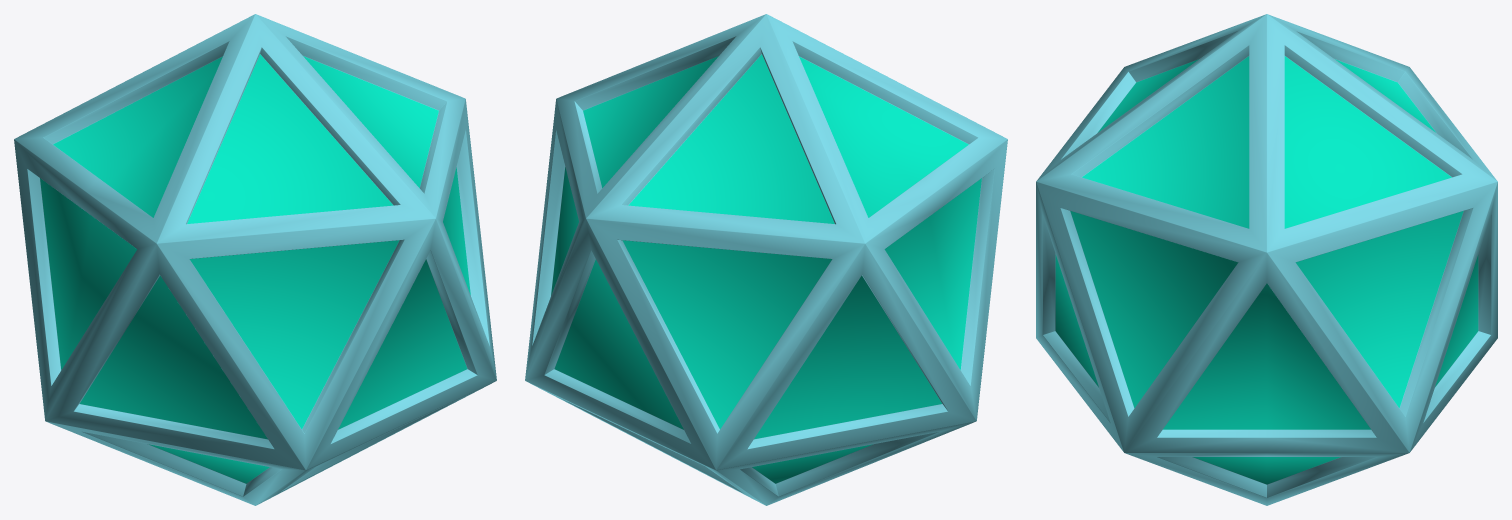
Rendered from Ice Cube.fbx.
3 views of the same model, side by side, from view 1: azimuth 30°, elevation 25°; view 2: azimuth 150°, elevation 25°; view 3: azimuth 270°, elevation 25° (orthographic).
Visible parts, largest first — view 1: Icosphere; view 2: Icosphere; view 3: Icosphere.
Boxes of the visible parts, <box> form: Icosphere: <box>14,14,496,505</box>; Icosphere: <box>525,14,1007,505</box>; Icosphere: <box>1036,14,1497,505</box>.
Bounding box in the file's own units: 179 × 200 × 170.
